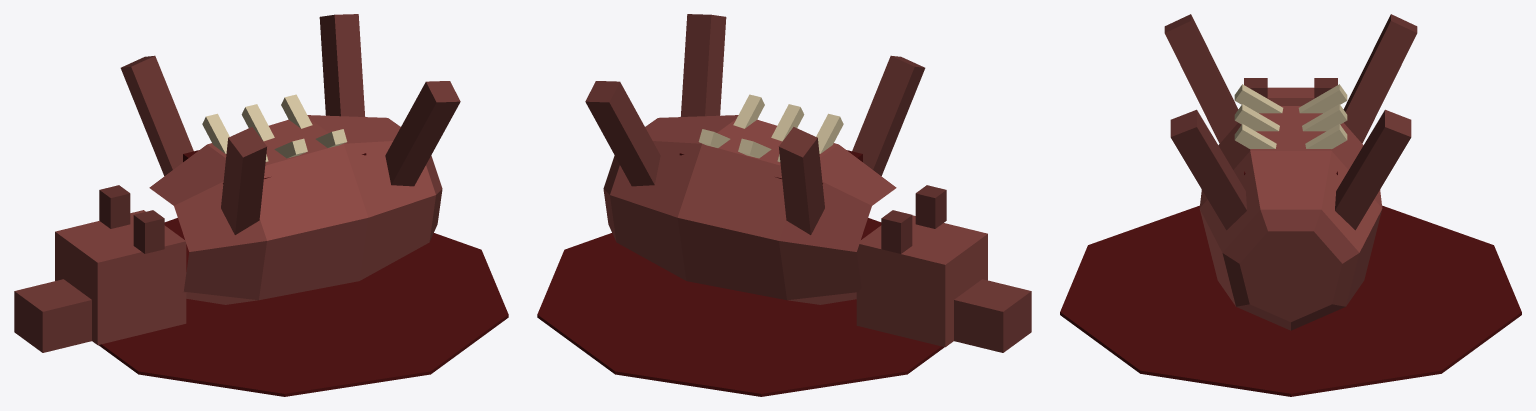
File: dead_thing.glb
3 renders of one model, left to right at view 1: azimuth 30°, elevation 25°; view 2: azimuth 150°, elevation 25°; view 3: azimuth 270°, elevation 25°, orthographic. The views are drawn at different scales.
Visible parts, largest first — view 1: dead_thing; view 2: dead_thing; view 3: dead_thing.
Boxes of the visible parts, bbox=[...] form: dead_thing: bbox=[14, 14, 508, 396]; dead_thing: bbox=[537, 14, 1031, 396]; dead_thing: bbox=[1060, 14, 1521, 396].
Size of the model in its own units: 0.92 by 0.4451 by 0.7878.
